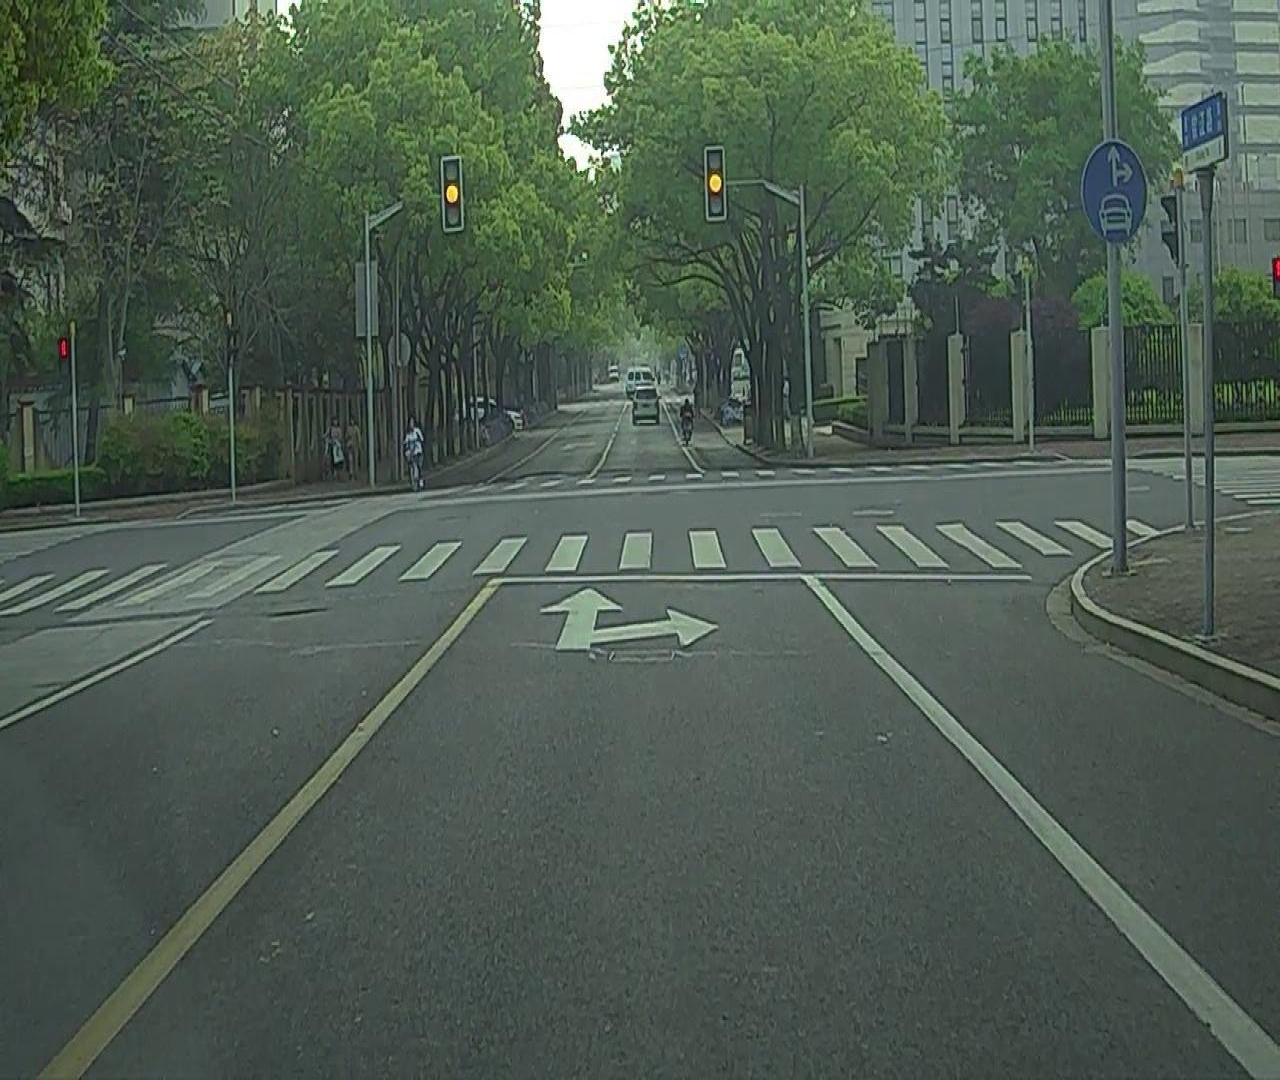yellow: (705, 148, 726, 217), (442, 157, 463, 229)
